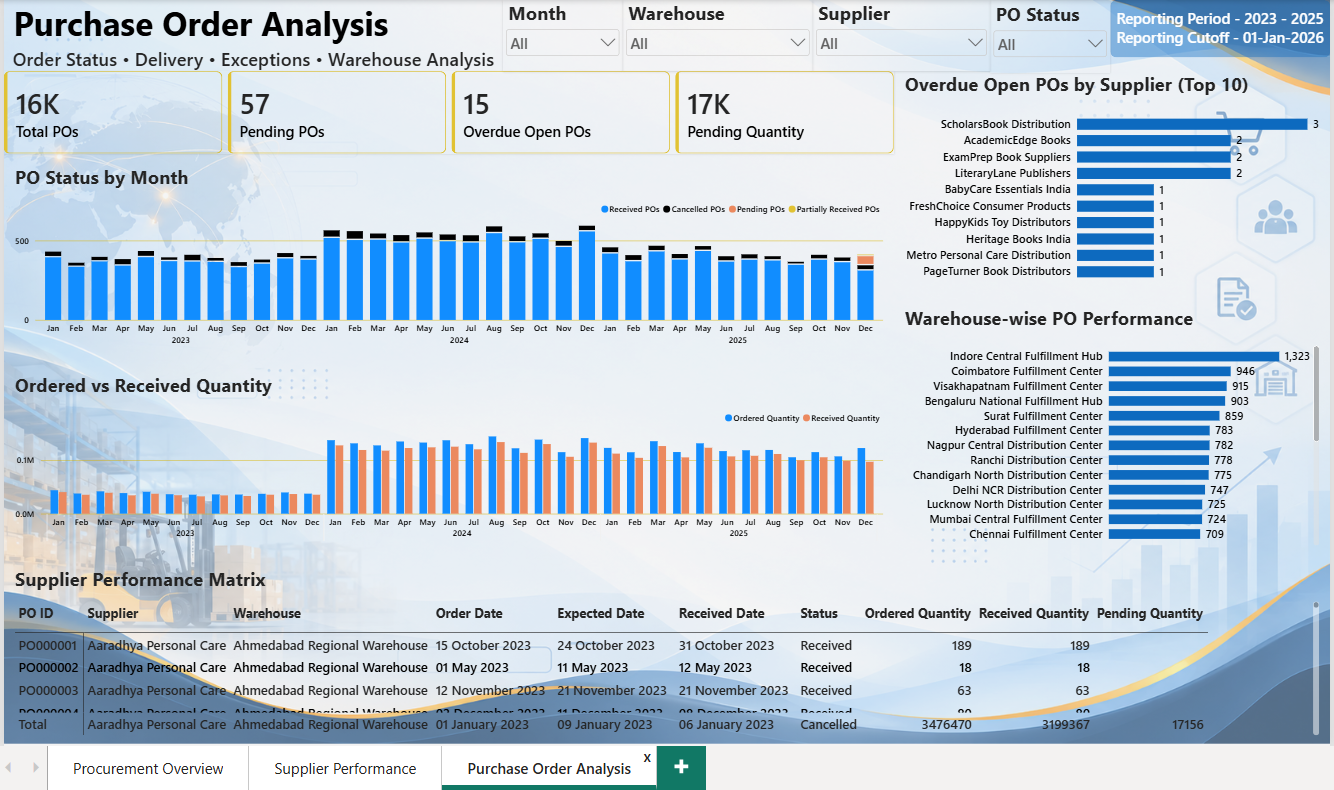

The page's visual inventory and layout, read from the dashboard file:
{"tool":"powerbi","page":{"name":"Purchase Order Analysis","canvas":[1920,1080],"ordinal":2},"visuals":[{"type":"textbox","box":[0,0,570,67],"z":0},{"type":"textbox","box":[0,67,722.1,41.6],"z":1000},{"type":"shape","box":[1601.5,0,318.5,83.2],"z":2000},{"type":"textbox","box":[1610.6,10.9,302.2,61.5],"z":3000},{"type":"slicer","fields":{"Values":["Dim_Date.Month Name"]},"box":[722.1,0,173.7,103.2],"z":4000},{"type":"slicer","fields":{"Values":["warehouses.warehouse_name"]},"box":[895.8,0,275.1,103.2],"z":5000},{"type":"slicer","fields":{"Values":["suppliers.supplier_name"]},"box":[1170.9,0,257,103.2],"z":6000},{"type":"slicer","fields":{"Values":["purchase_orders.status"]},"box":[1427.8,1.8,173.7,103.2],"z":7000},{"type":"cardVisual","fields":{"Data":["Measurs.Total POs","Measurs.Pending POs","Measurs.Overdue Open POs","Measurs.Pending Quantity"]},"box":[0,103.2,1288.5,119.4],"z":8000},{"type":"columnChart","title":"PO Status by Month","fields":{"Category":["Dim_Date.Year","Dim_Date.Month Name"],"Y":["Measurs.Received POs","Measurs.Cancelled POs","Measurs.Pending POs","Measurs.Partially Received POs"]},"box":[0,222.6,1288.5,302.2],"z":9000},{"type":"clusteredColumnChart","title":"Ordered vs Received Quantity","fields":{"Category":["Dim_Date.Year","Dim_Date.Month Name"],"Y":["Measurs.Ordered Quantity","Measurs.Received Quantity"]},"box":[0,524.8,1288.5,280.5],"z":10000},{"type":"barChart","title":"Overdue Open POs by Supplier (Top 10)","fields":{"Category":["suppliers.supplier_name"],"Y":["Measurs.Overdue Open POs"]},"box":[1288.5,88.7,631.6,338.4],"z":11000},{"type":"barChart","title":"Warehouse-wise PO Performance","fields":{"Category":["warehouses.warehouse_name"],"Y":["Measurs.Total POs"]},"box":[1288.5,427.1,631.6,378.2],"z":12000},{"type":"pivotTable","title":"Supplier Performance Matrix","fields":{"Rows":["purchase_orders.purchase_order_id"],"Values":["Min(suppliers.supplier_name)","Min(warehouses.warehouse_name)","Min(purchase_orders.order_date)","Min(purchase_orders.expected_date)","Min(purchase_orders.received_date)","Min(purchase_orders.status)","Measurs.Ordered Quantity","Measurs.Received Quantity","Measurs.Pending Quantity"]},"box":[0,805.3,1920.1,275.1],"z":13000}]}

Visuals, with their boxes on the page's 1920x1080 design canvas (x1, y1, x2, y2). These are canvas units, not pixel positions in the 1334x790 screenshot, which may show the page scaled, cropped or inside an application window:
textbox: BBox(0, 0, 570, 67)
textbox: BBox(0, 67, 722, 109)
shape: BBox(1602, 0, 1920, 83)
textbox: BBox(1611, 11, 1913, 72)
slicer - Dim_Date.Month Name: BBox(722, 0, 896, 103)
slicer - warehouses.warehouse_name: BBox(896, 0, 1171, 103)
slicer - suppliers.supplier_name: BBox(1171, 0, 1428, 103)
slicer - purchase_orders.status: BBox(1428, 2, 1602, 105)
cardVisual - Measurs.Total POs x Measurs.Pending POs: BBox(0, 103, 1288, 223)
"PO Status by Month" columnChart: BBox(0, 223, 1288, 525)
"Ordered vs Received Quantity" clusteredColumnChart: BBox(0, 525, 1288, 805)
"Overdue Open POs by Supplier (Top 10)" barChart: BBox(1288, 89, 1920, 427)
"Warehouse-wise PO Performance" barChart: BBox(1288, 427, 1920, 805)
"Supplier Performance Matrix" pivotTable: BBox(0, 805, 1920, 1080)
